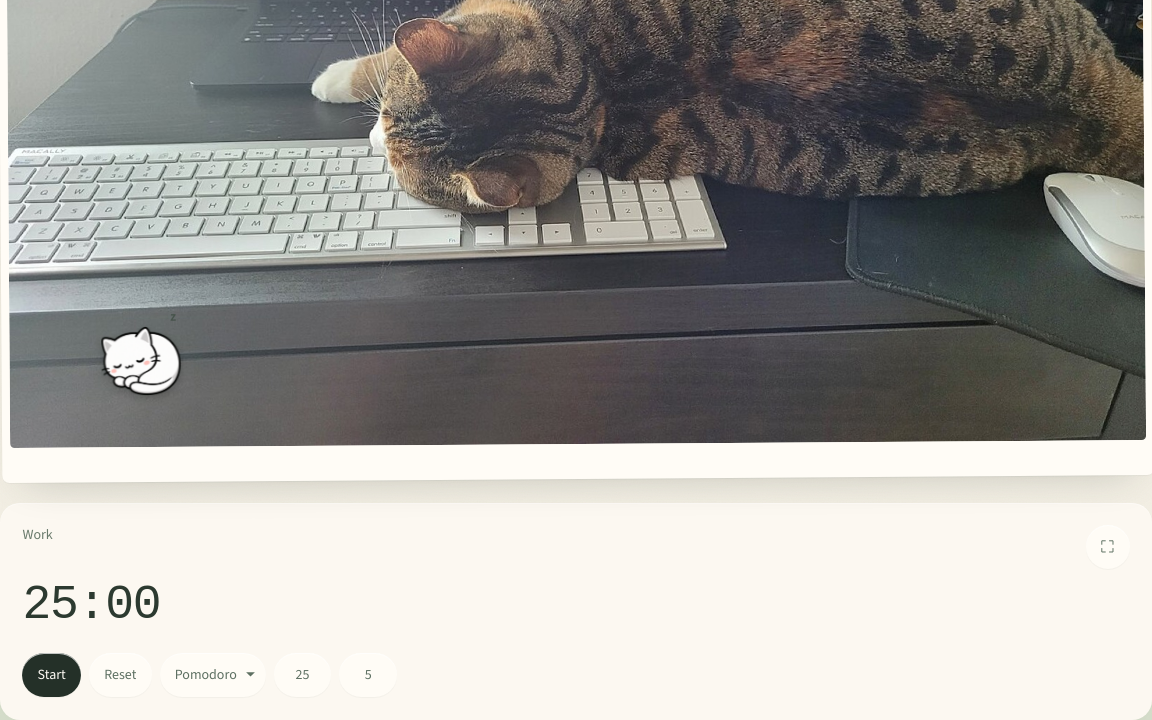
Scenario: FocusPage › lets you pick pomodoro or a plain timer and open full screen
(page scrolled)
Check: the field named "Work minutes" is shown, box [274,653,331,697]
Check: the field named "Break minutes" is shown, box [339,653,397,697]
Select "Timer" in the dropdown named "Timer" at (213,675), box [160,653,266,697]
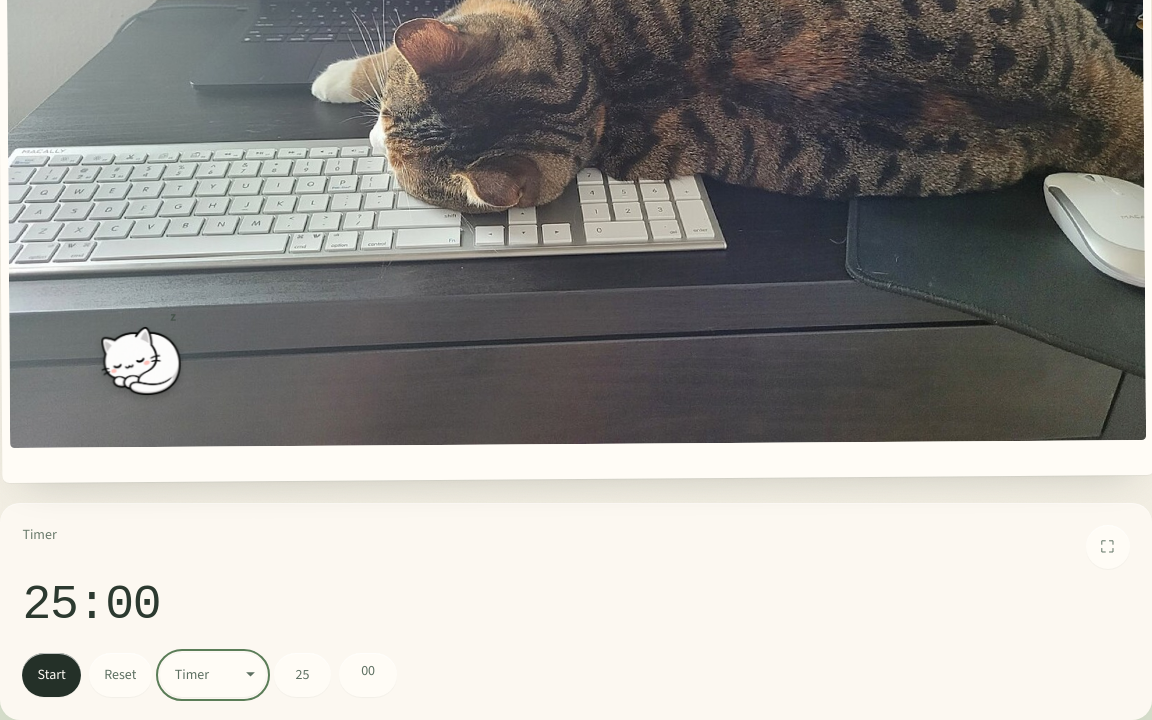
Check: the field named "Minutes" is shown, box [274,653,331,697]
Click the button named "Full screen" at (1108,547), box [1086,525,1130,569]
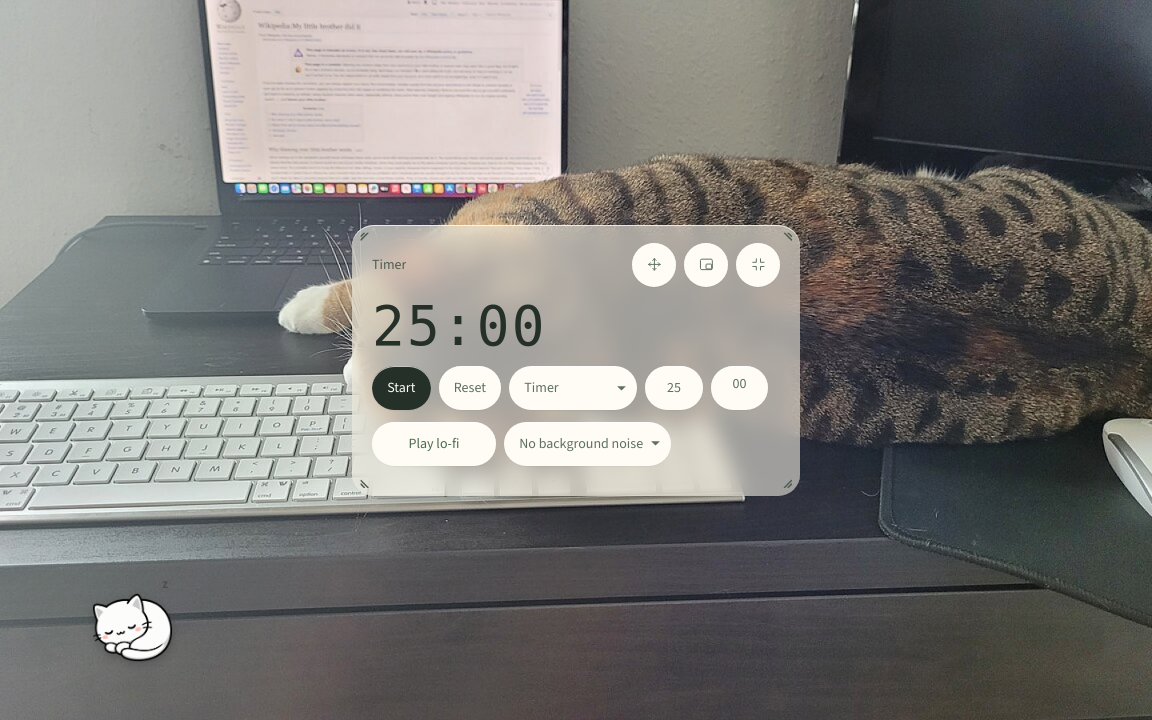
Check: the button named "Cat" is shown, box [92,575,173,662]
Check: the button "Play lo-fi" is shown, box [372,422,496,466]
Check: the dropdown named "Background noise" is shown, box [504,422,671,466]
Press the mouse on the button named "Move timer" at (654,265), box [632,243,676,287]
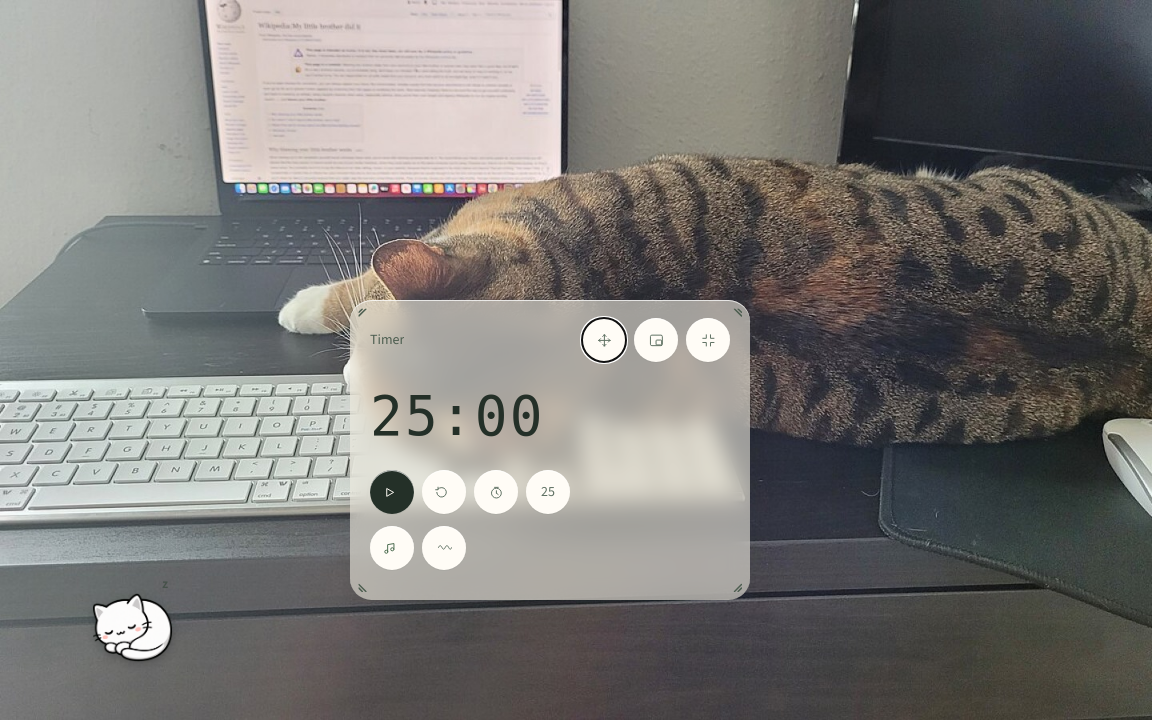
Press ArrowUp in the button named "Move timer", box [582,318,626,362]
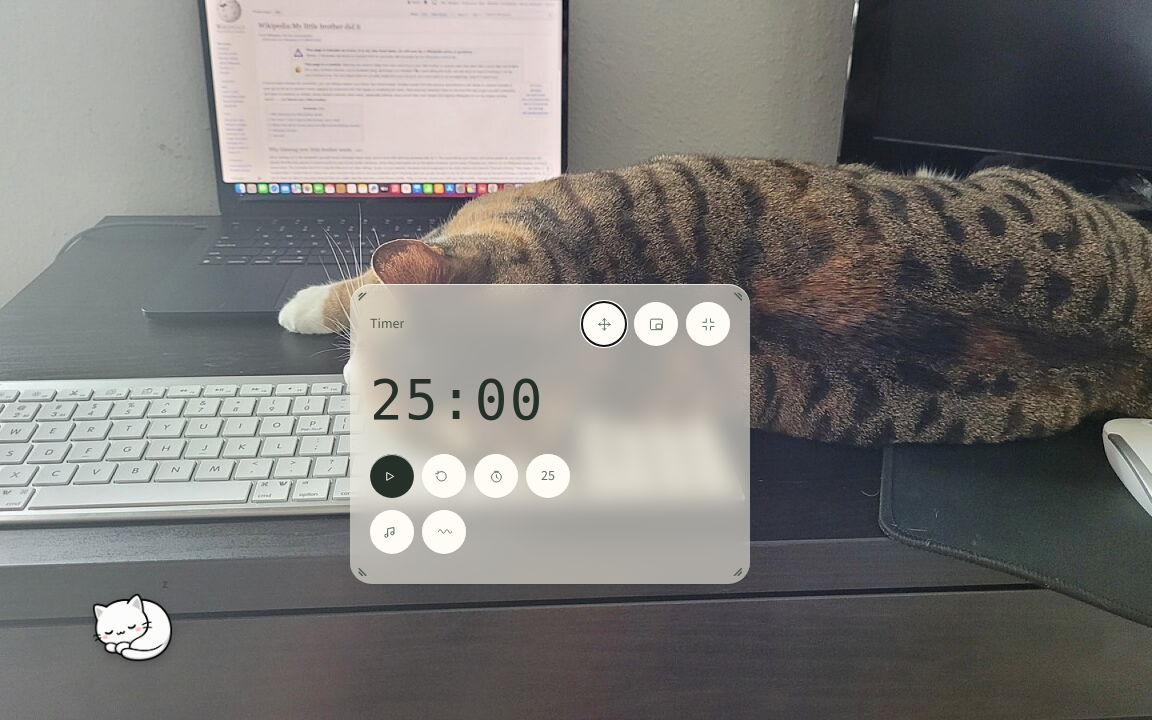
Press the mouse on the button named "Resize from bottom right" at (731,565), box [715,549,747,581]
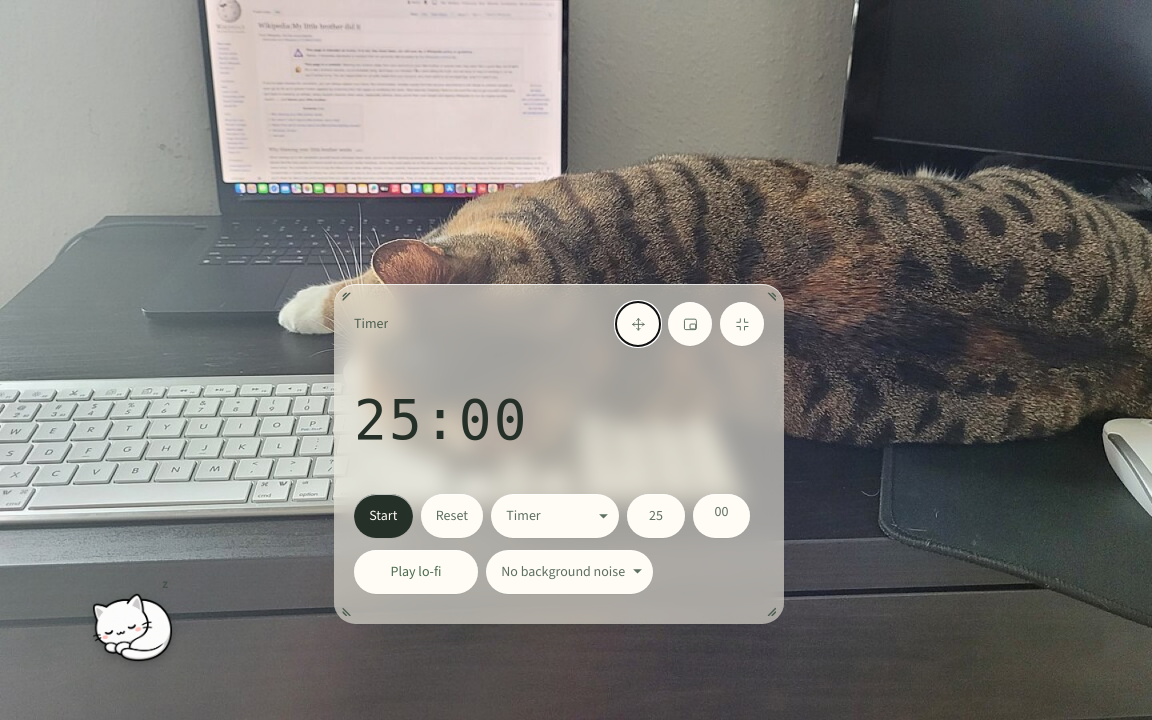
Click the button named "Exit full screen" at (742,324), box [720,302,764,346]
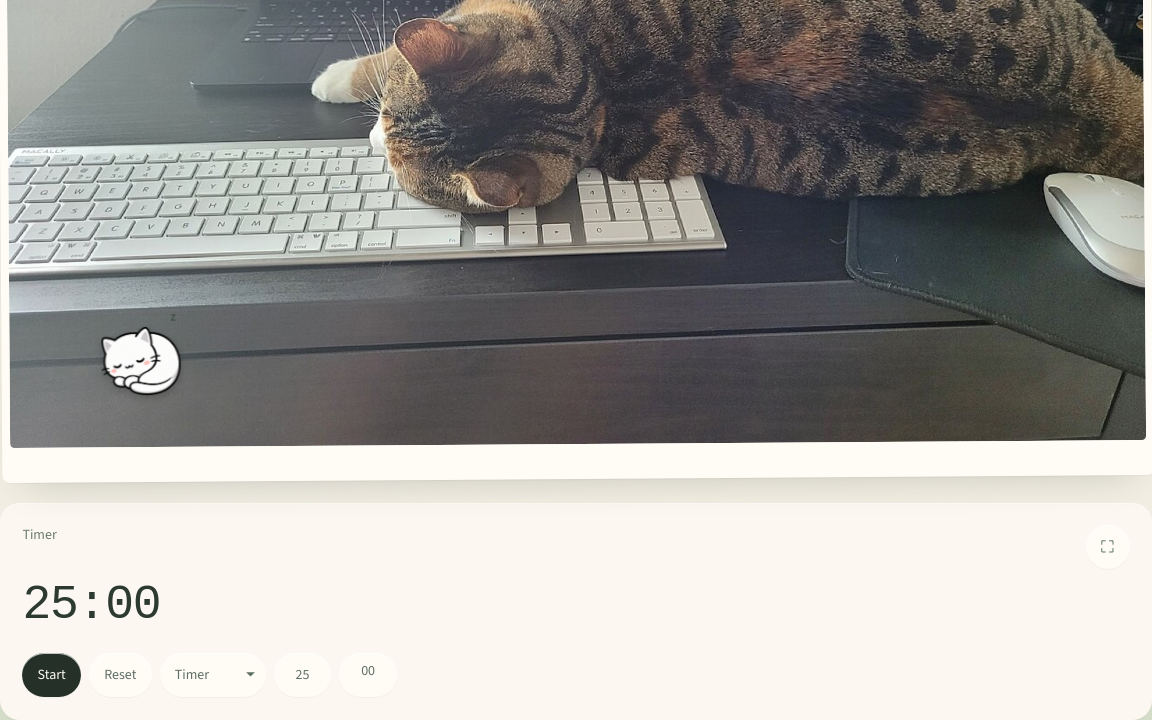
Check: the dialog "z Timer 25:00 Start Reset 00 Play lo-fi" is gone
